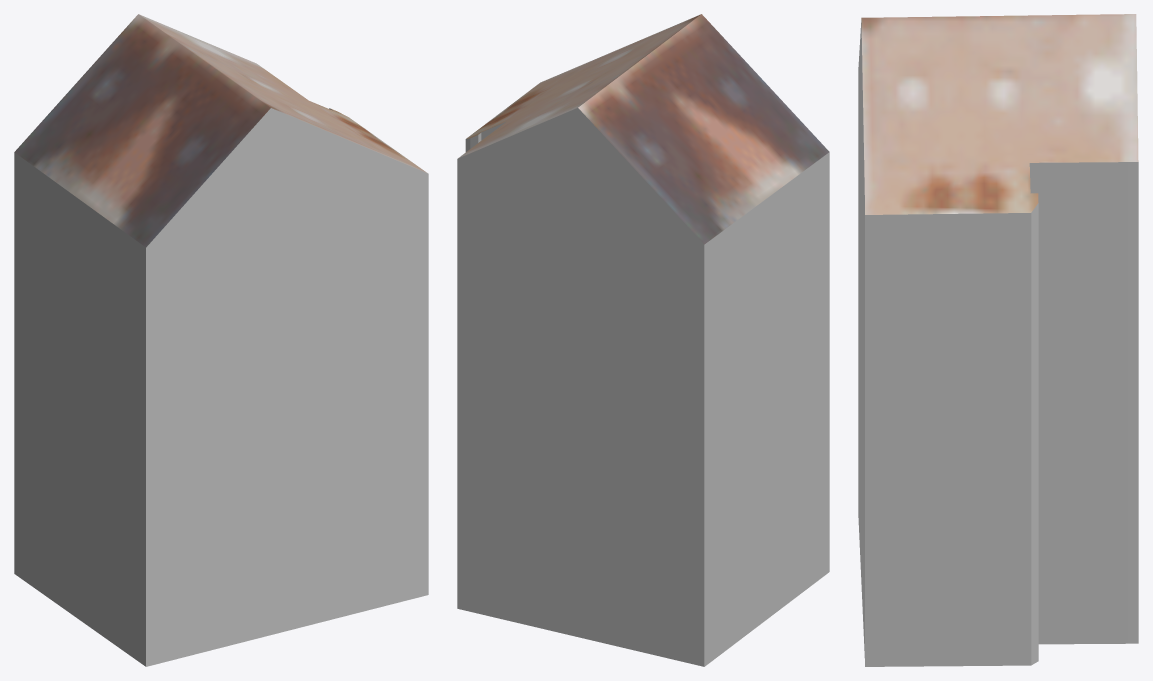
The model's file is DEBW_0010007Tx8d.gltf.
The picture shows the model from 3 angles, left to right: view 1: azimuth 30°, elevation 25°; view 2: azimuth 150°, elevation 25°; view 3: azimuth 270°, elevation 25°; orthographic projection. The views are drawn at different scales.
Parts seen in each view (by area): view 1: Z_UP; view 2: Z_UP; view 3: Z_UP.
Boxes of the visible parts, x1,y1,x2,y2 form: Z_UP: (14,14,428,666); Z_UP: (457,14,829,666); Z_UP: (858,14,1138,666).
Bounding box in the file's own units: 11.82 × 20.65 × 9.24.
2 materials, 1 textured.
